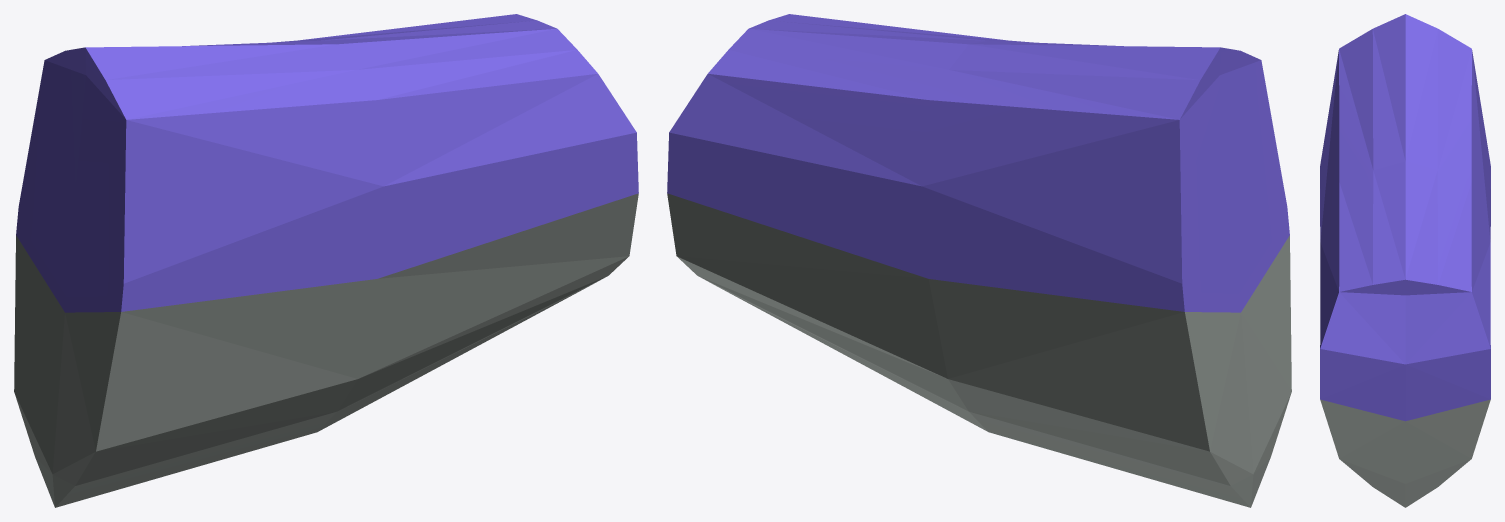
File: Body.fbx
3 renders of one model, left to right at view 1: azimuth 30°, elevation 25°; view 2: azimuth 150°, elevation 25°; view 3: azimuth 270°, elevation 25°, orthographic. The views are drawn at different scales.
Parts seen in each view (by area): view 1: Plane; view 2: Plane; view 3: Plane.
Boxes of the visible parts, left/top/right/bottom form: Plane: left=14, top=14, right=638, bottom=507; Plane: left=667, top=14, right=1291, bottom=507; Plane: left=1320, top=14, right=1490, bottom=507.
Size of the model in its own units: 164 by 132 by 55.55.
